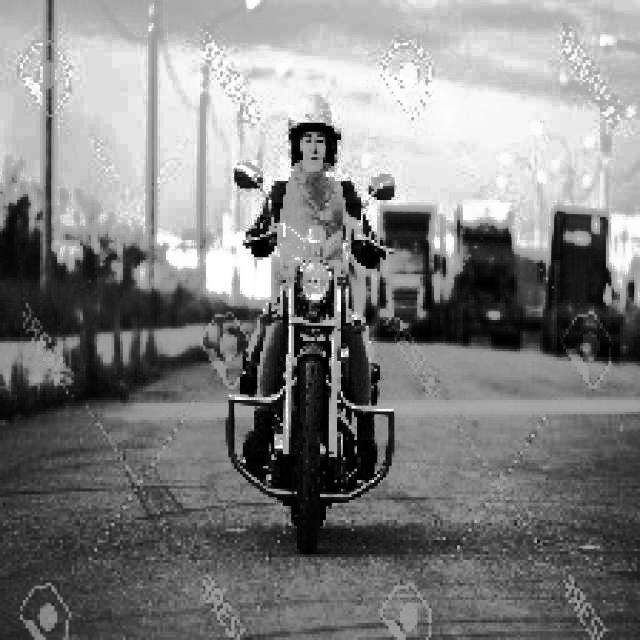Bike: (240, 241, 378, 525)
